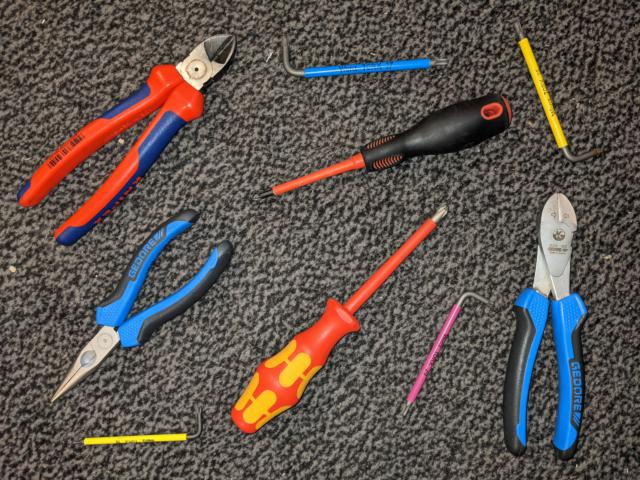Inbusschlüssel: (510, 14, 607, 163), (398, 288, 493, 423), (277, 29, 454, 80), (68, 403, 209, 451)
Schraubendreher: (229, 200, 453, 439), (249, 90, 516, 204)
Seitenschneider: (12, 29, 241, 251), (498, 186, 593, 461)
Zange: (46, 205, 237, 408)
